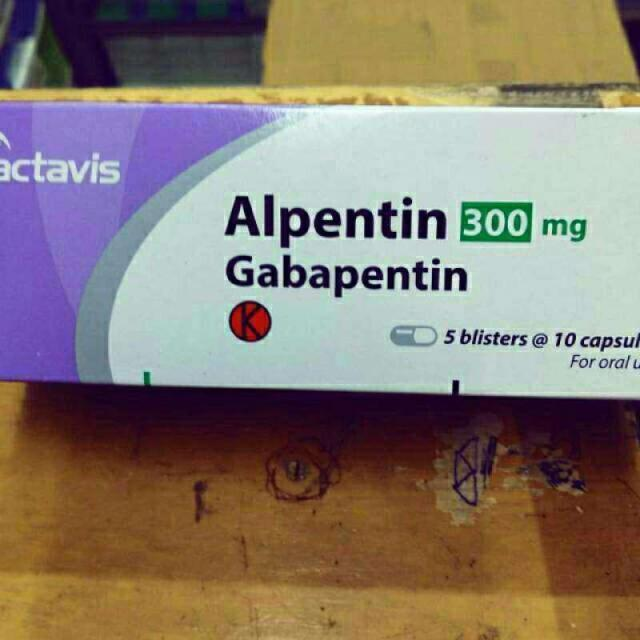drug-name: (221, 188, 451, 250)
